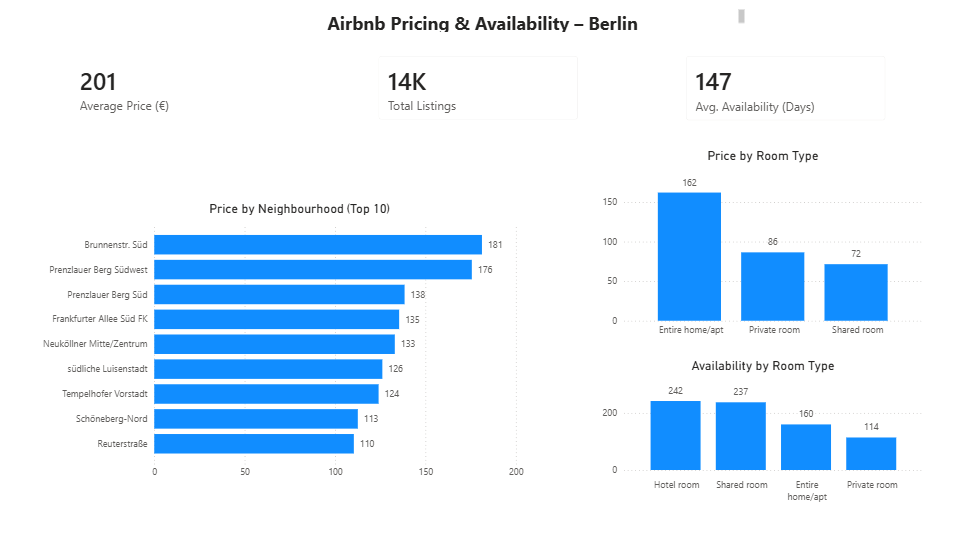

Layout of this report page (visuals, bound fields, positions):
{"tool":"powerbi","page":{"name":"Page 1","canvas":[1280,720],"ordinal":0},"visuals":[{"type":"cardVisual","fields":{"Data":["Avg(public listings.price)"]},"box":[80,60,300,120],"z":0},{"type":"cardVisual","fields":{"Data":["CountNonNull(public listings.id)"]},"box":[490,60,300.5,119.1],"z":1},{"type":"cardVisual","fields":{"Data":["Avg(public listings.availability_365)"]},"box":[900,60,300.5,120],"z":2},{"type":"clusteredBarChart","fields":{"Y":["Avg(public listings.price)"],"Category":["public listings.neighbourhood"]},"box":[41.6,270.2,720,379.8],"z":3},{"type":"clusteredColumnChart","fields":{"Category":["public listings.room_type"],"Y":["Avg(public listings.price)"]},"box":[800,200,440,260],"z":4},{"type":"clusteredColumnChart","fields":{"Category":["public listings.room_type"],"Y":["Avg(public listings.availability_365)"]},"box":[800,480,440,200],"z":5},{"type":"textbox","box":[300,10,700,40],"z":6}]}

Visuals, with their boxes in screenshot pixels (x1, y1, x2, y2), scaled from the page's 1280x720 canvas onto the 957x534 screenshot:
cardVisual - Avg(public listings.price): rect(60, 44, 284, 134)
cardVisual - CountNonNull(public listings.id): rect(366, 44, 591, 133)
cardVisual - Avg(public listings.availability_365): rect(673, 44, 898, 134)
clusteredBarChart - Avg(public listings.price) x public listings.neighbourhood: rect(31, 200, 569, 482)
clusteredColumnChart - public listings.room_type x Avg(public listings.price): rect(598, 148, 927, 341)
clusteredColumnChart - public listings.room_type x Avg(public listings.availability_365): rect(598, 356, 927, 504)
textbox: rect(224, 7, 748, 37)
